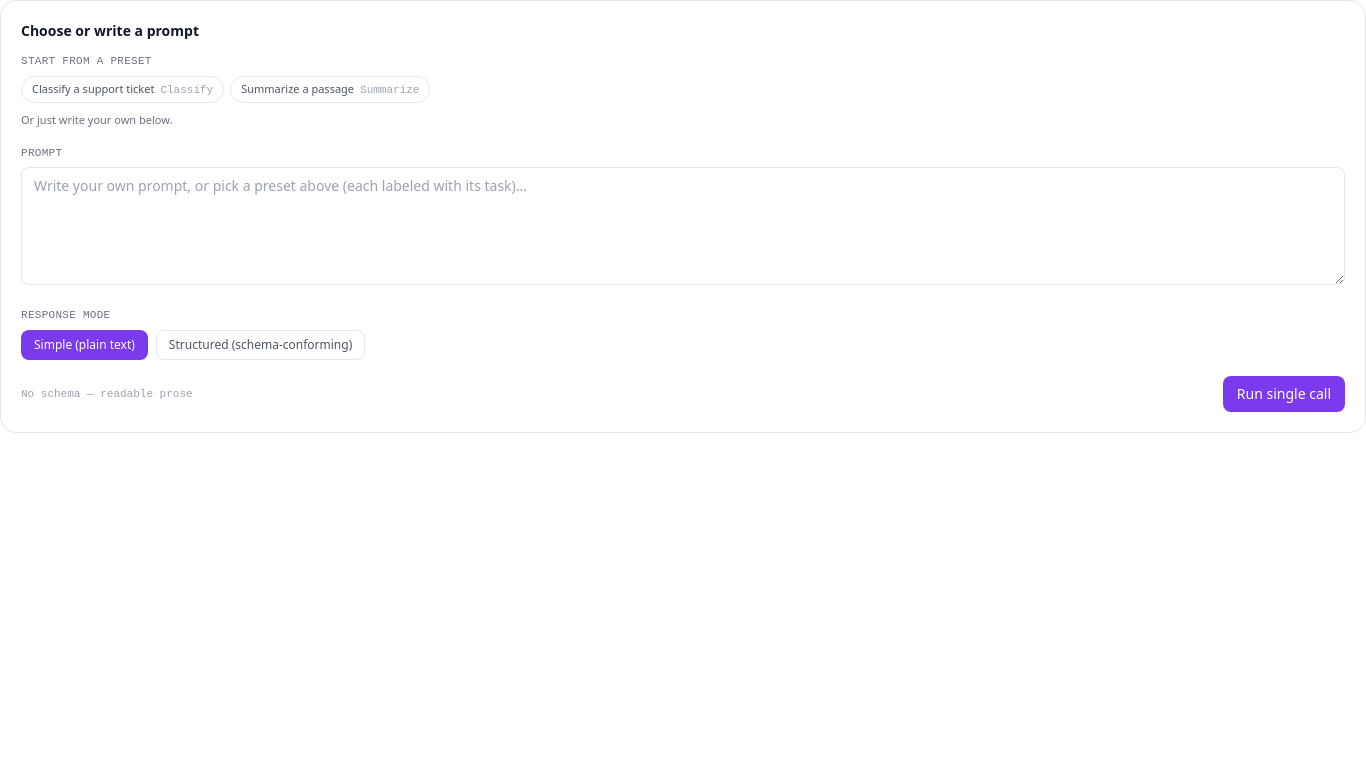
Test: SingleCallApp › renders a markdown response in plain mode as formatted elements
Type "What is a hash table?" into the text box labelled "Prompt" at {"x": 683, "y": 226}, box [21,167,1345,285]
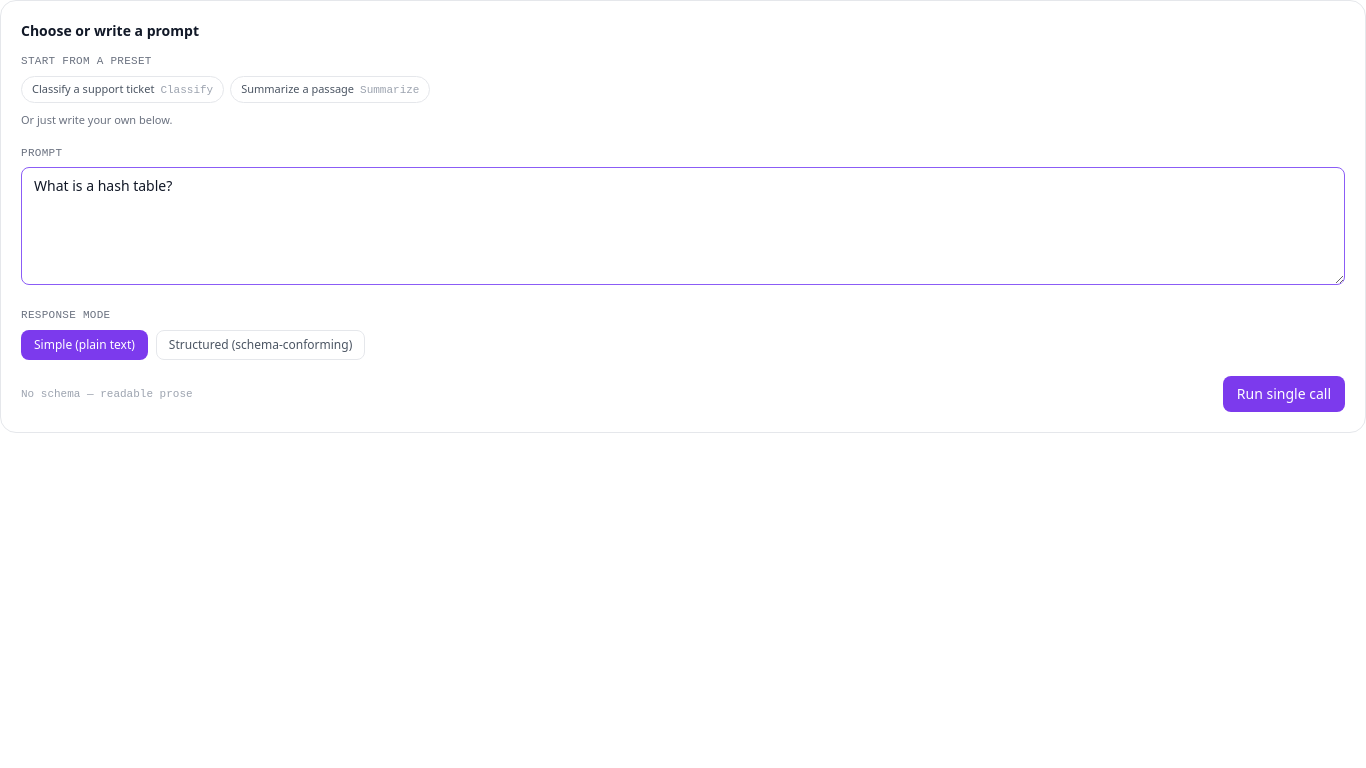
Click the button "Run single call" at {"x": 1284, "y": 394}, box [1223,376,1345,412]
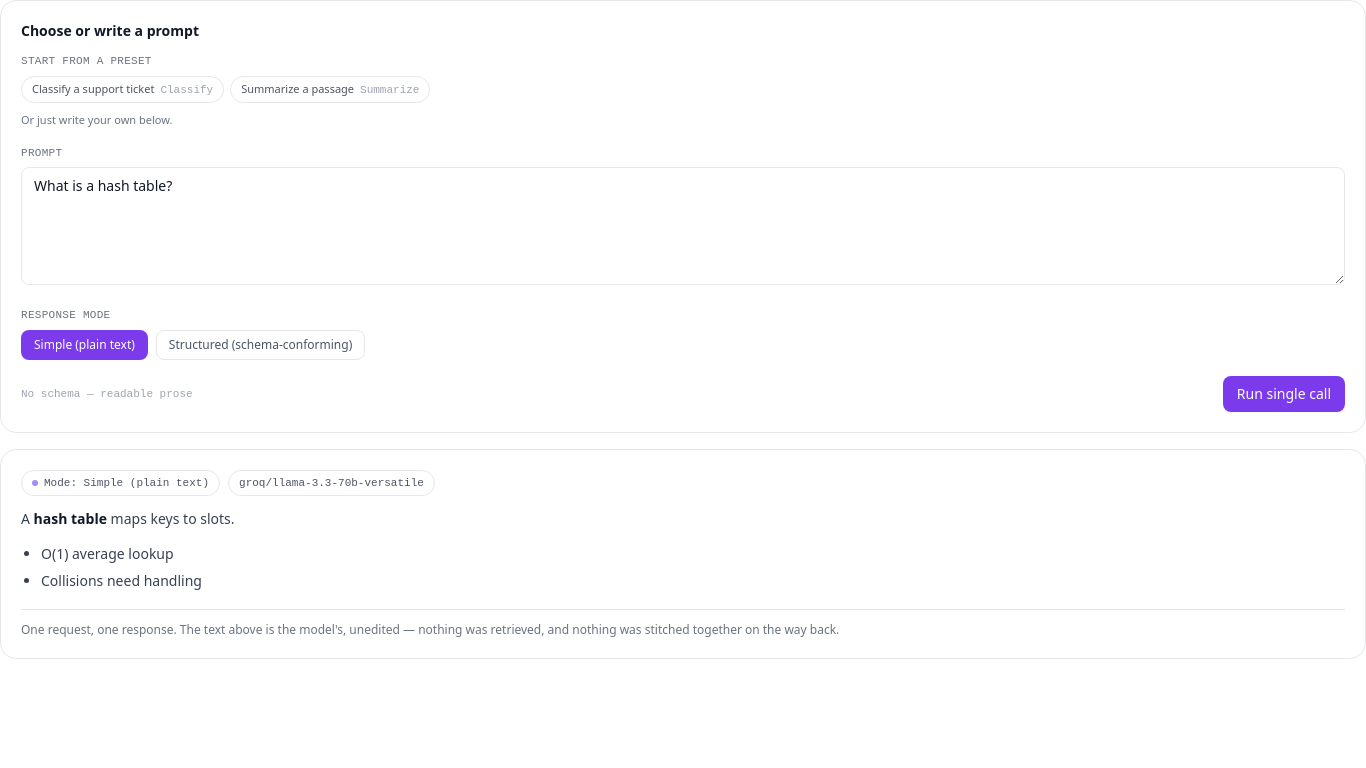
Now the number of list items is 2, box [41,544,174,563]; [41,571,202,590]
